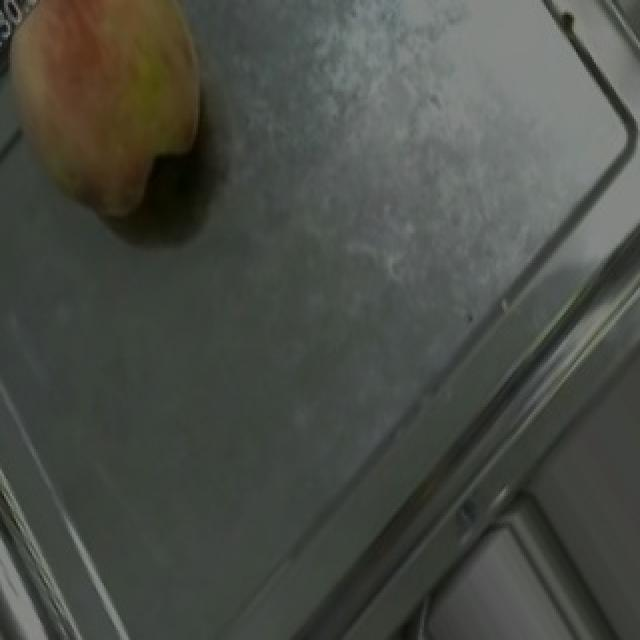Fruit: (0, 0, 238, 251)
